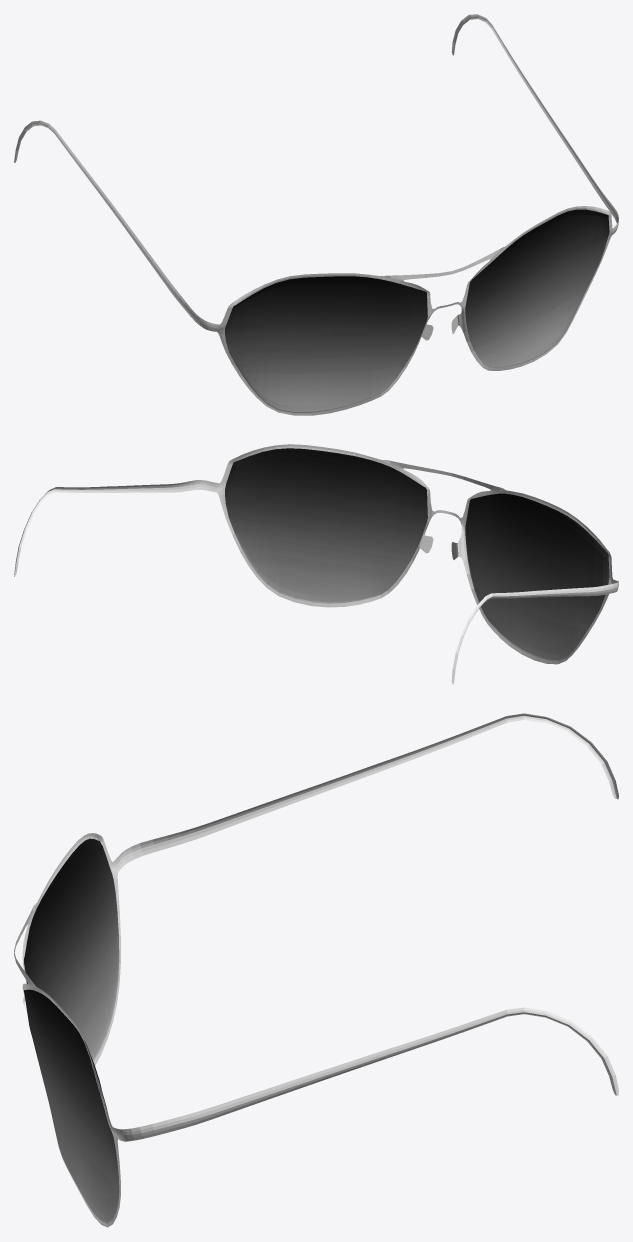
File: Megane01.fbx
3 renders of one model, top to bottom at view 1: azimuth 30°, elevation 25°; view 2: azimuth 150°, elevation 25°; view 3: azimuth 270°, elevation 25°, orthographic. The views are drawn at different scales.
Parts seen in each view (by area): view 1: Megane01; view 2: Megane01; view 3: Megane01.
Boxes of the visible parts, x1,y1,x2,y2 form: Megane01: (14, 14, 618, 415); Megane01: (14, 444, 618, 684); Megane01: (14, 713, 618, 1227).
Size of the model in its own units: 14.76 by 6.54 by 12.72.
